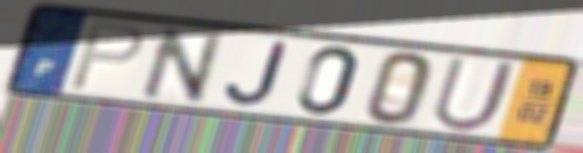0: (362, 49, 435, 128), (294, 43, 362, 118)
J: (222, 40, 292, 109)
N: (138, 24, 228, 105)
P: (65, 20, 149, 93)
U: (428, 53, 523, 135)
